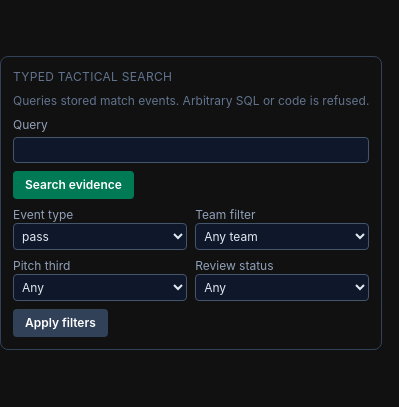
it: submits visible typed filters for the current generation through the same search workflow
Select "recovery" in the dropdown labelled "Event type". click: {"x": 100, "y": 236}
box: [13,223,187,250]
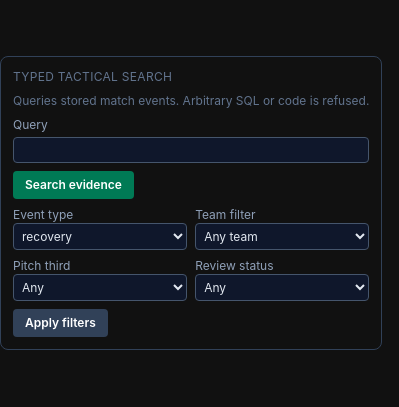
Select "Our team" in the dropdown labelled "Team filter". click: {"x": 282, "y": 236}
box: [195,223,369,250]
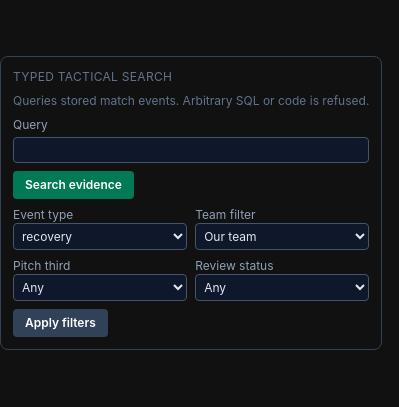
Select "Right" in the dropdown labelled "Pitch third". click: {"x": 100, "y": 288}
box: [13,274,187,301]
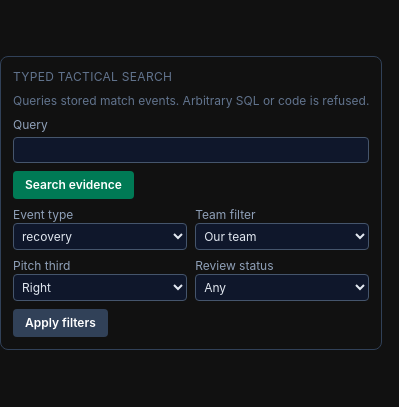
Select "Accepted" in the dropdown labelled "Review status". click: {"x": 282, "y": 288}
box: [195,274,369,301]
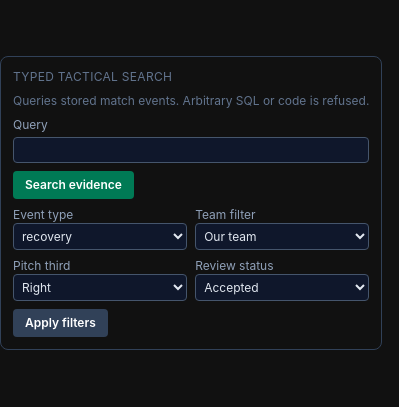
Click the button "Apply filters". click: {"x": 60, "y": 323}
box: [13,309,108,337]
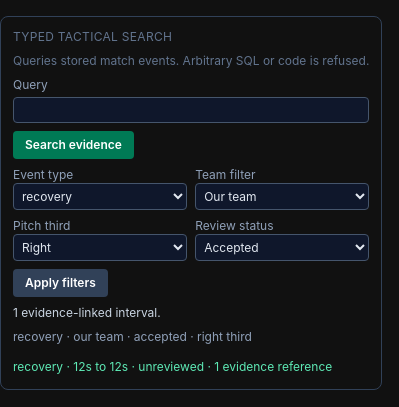
Now the button "recovery · 12s to 12s · unreviewed · 1 evidence reference" is shown, box [13,359,332,375]
Now the text named "Interpreted filter" shows "right third", box [13,329,252,344]
